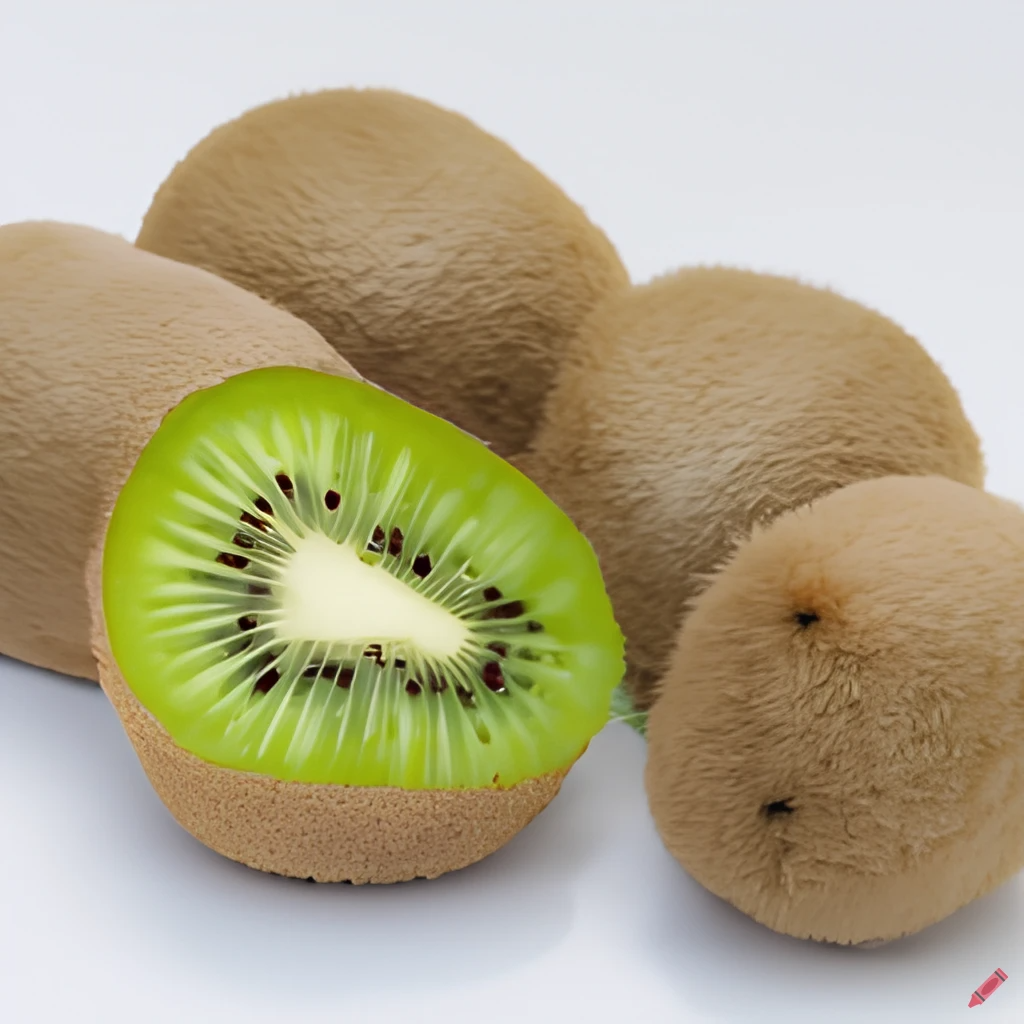Kiwi: (638, 472, 1024, 954)
